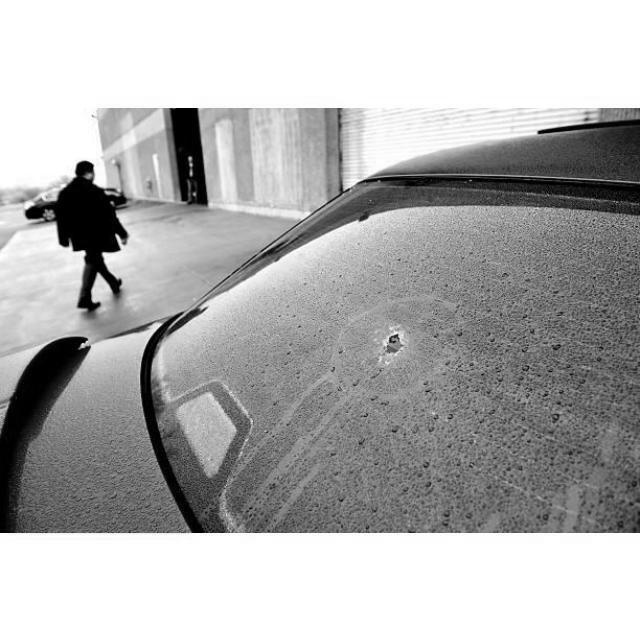Rear-windscreen-Damage: (100, 163, 638, 532)
